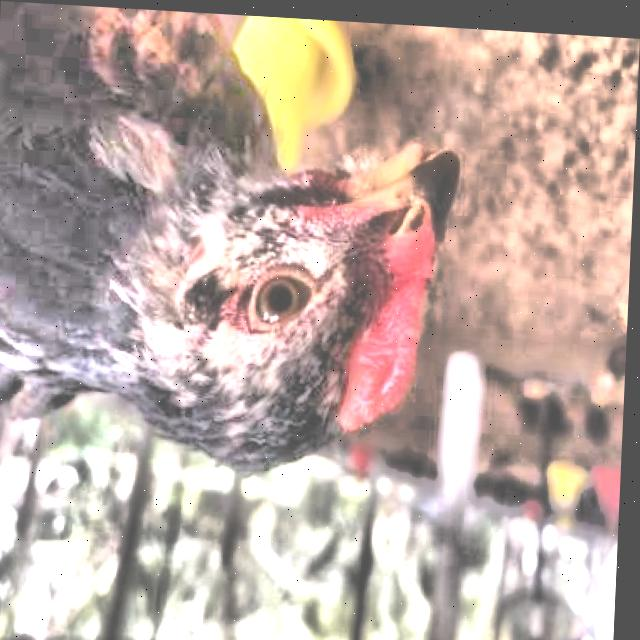Healthy: (236, 256, 349, 333)
